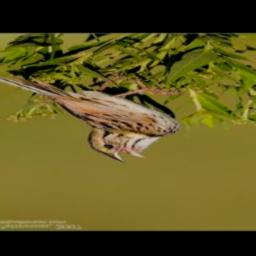Sparrow: (0, 74, 178, 163)
